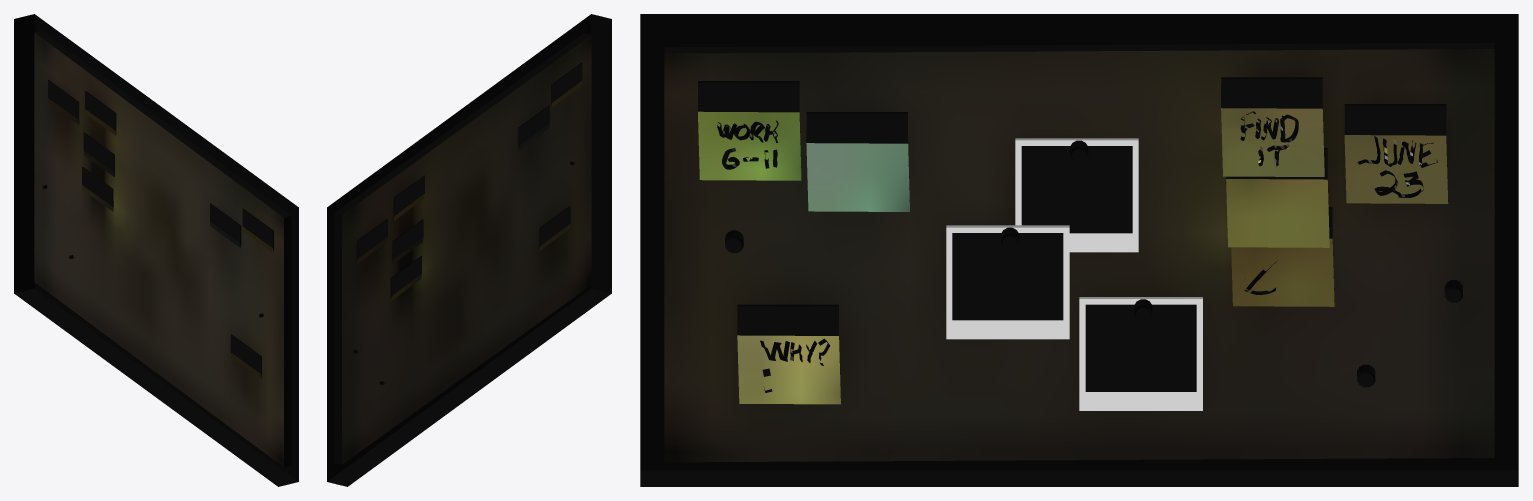
Rendered from pizarra_h.glb.
The picture shows the model from 3 angles, left to right: view 1: azimuth 30°, elevation 25°; view 2: azimuth 150°, elevation 25°; view 3: azimuth 270°, elevation 25°; orthographic projection. The views are drawn at different scales.
Visible parts, largest first — view 1: Node; view 2: Node; view 3: Node.
Part boxes in pixels (x1,y1,x2,y2): Node: (14,14,298,486); Node: (327,14,611,486); Node: (640,14,1518,486).
Size of the model in its own units: 0.2658 by 2.04 by 3.56.
Materials: 7 (6 with a texture image).
